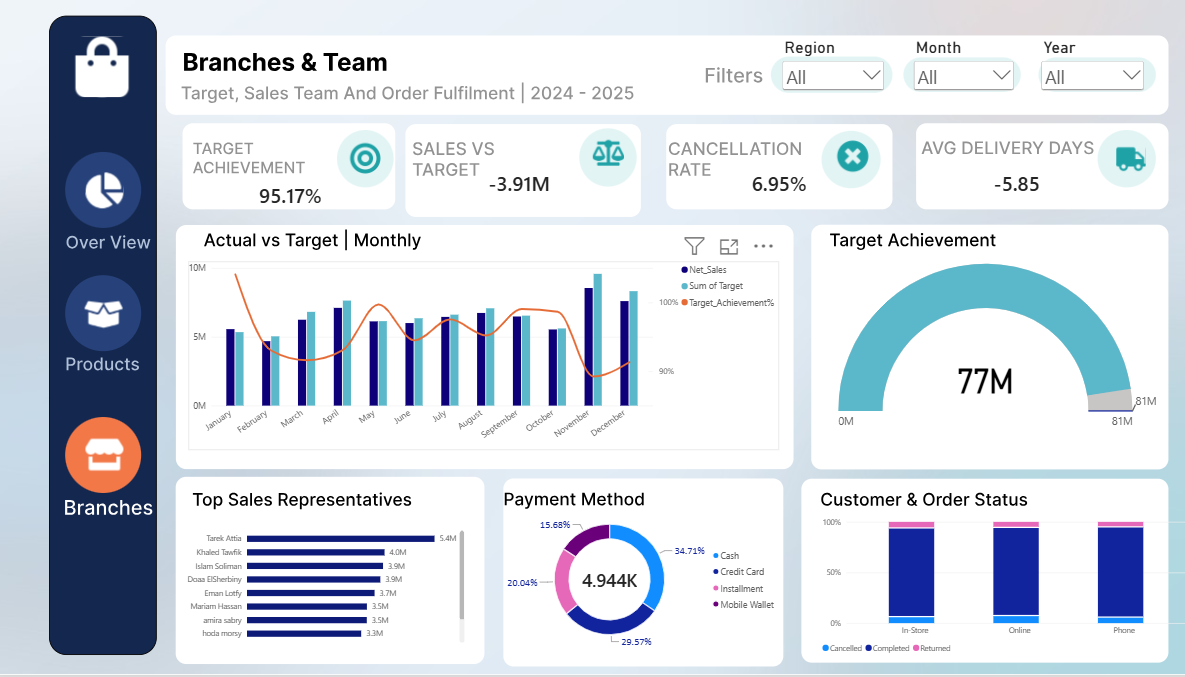

The page's visual inventory and layout, read from the dashboard file:
{"tool":"powerbi","page":{"name":"Branches& Team","canvas":[1920,1080],"ordinal":3},"visuals":[{"type":"cardVisual","fields":{"Data":["_Measures.Target_Achievement%"]},"box":[270,244,415.9,135.9],"z":0},{"type":"slicer","fields":{"Values":["Date Table.Date.Variation.Date Hierarchy.Month"]},"box":[1470,60,170,94],"z":1000},{"type":"lineClusteredColumnComboChart","fields":{"Category":["Date Table.Date.Variation.Date Hierarchy.Month"],"Y":["_Measures.Net_Sales","Sum(Targets.Target)"],"Y2":["_Measures.Target_Achievement%"]},"box":[314,418,946,302],"z":2000},{"type":"cardVisual","fields":{"Data":["_Measures.Sales vs Target"]},"box":[636,224,415.9,135.9],"z":3000},{"type":"slicer","fields":{"Values":["Branches.Region"]},"box":[1260,60,172,108],"z":4000},{"type":"gauge","fields":{"MaxValue":["Sum(Targets.Target)"],"TargetValue":["Sum(Targets.Target)"],"Y":["_Measures.Net_Sales"]},"box":[1354,400,514,312],"z":5000},{"type":"cardVisual","fields":{"Data":["_Measures.Cancelled_Rate%"]},"box":[1051.2,224,415.9,135.9],"z":6000},{"type":"slicer","fields":{"Values":["Date Table.Date.Variation.Date Hierarchy.Year"]},"box":[1674,60,174,94],"z":7000},{"type":"clusteredBarChart","fields":{"Category":["Employees.EmployeeName"],"Y":["_Measures.Net_Sales"]},"box":[290,826,482,218],"z":8000},{"type":"cardVisual","fields":{"Data":["_Measures.AVG_Delivery_Days"]},"box":[1432,224,415.9,135.9],"z":9000},{"type":"donutChart","fields":{"Category":["Sales.PaymentMethod"],"Y":["CountNonNull(Sales.PaymentMethod)"]},"box":[824,804,436,246],"z":10000},{"type":"hundredPercentStackedColumnChart","fields":{"Category":["Sales.Channel"],"Series":["Sales.OrderStatus"],"Y":["CountNonNull(Sales.OrderID)"]},"box":[1328,826,592,224],"z":11000},{"type":"actionButton","box":[126,238,96,110],"z":12000}]}

Visuals, with their boxes in screenshot pixels (x1, y1, x2, y2), scaled from the page's 1920x1080 canvas onto the 1185x677 screenshot:
cardVisual - _Measures.Target_Achievement%: [left=167, top=153, right=423, bottom=238]
slicer - Date Table.Date.Variation.Date Hierarchy.Month: [left=907, top=38, right=1012, bottom=97]
lineClusteredColumnComboChart - Date Table.Date.Variation.Date Hierarchy.Month x _Measures.Net_Sales: [left=194, top=262, right=778, bottom=451]
cardVisual - _Measures.Sales vs Target: [left=393, top=140, right=649, bottom=226]
slicer - Branches.Region: [left=778, top=38, right=884, bottom=105]
gauge - Sum(Targets.Target) x Sum(Targets.Target): [left=836, top=251, right=1153, bottom=446]
cardVisual - _Measures.Cancelled_Rate%: [left=649, top=140, right=905, bottom=226]
slicer - Date Table.Date.Variation.Date Hierarchy.Year: [left=1033, top=38, right=1141, bottom=97]
clusteredBarChart - Employees.EmployeeName x _Measures.Net_Sales: [left=179, top=518, right=476, bottom=654]
cardVisual - _Measures.AVG_Delivery_Days: [left=884, top=140, right=1141, bottom=226]
donutChart - Sales.PaymentMethod x CountNonNull(Sales.PaymentMethod): [left=509, top=504, right=778, bottom=658]
hundredPercentStackedColumnChart - Sales.Channel x Sales.OrderStatus: [left=820, top=518, right=1184, bottom=658]
actionButton: [left=78, top=149, right=137, bottom=218]
